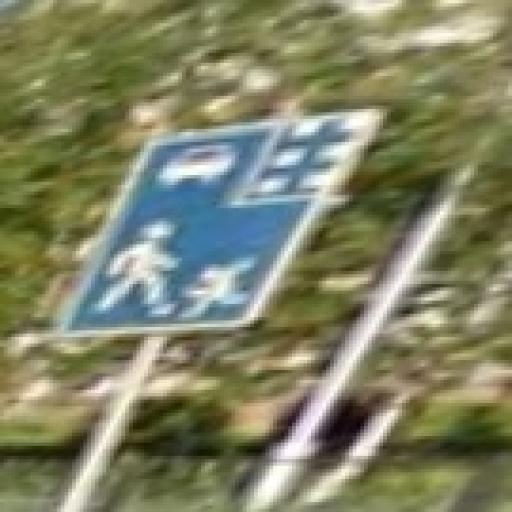traffic_sign: (54, 110, 388, 341)
